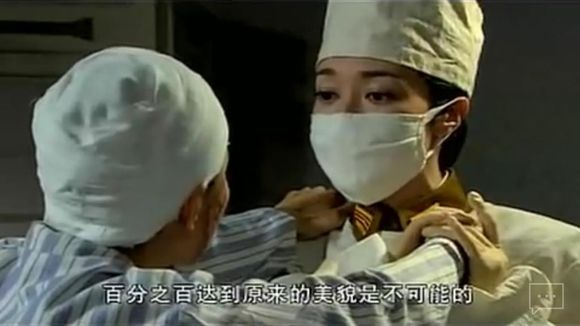face_mask: (309, 49, 427, 204)
